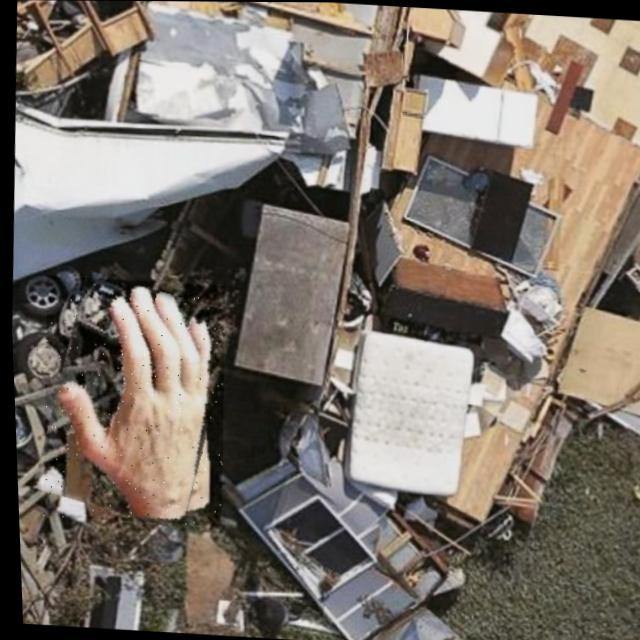Person in Rubble: (32, 275, 229, 526)
